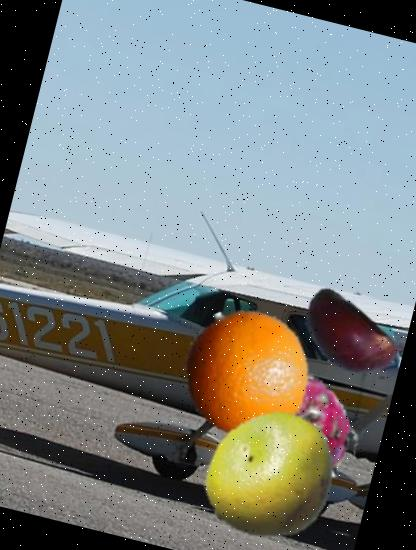Chestnut: (283, 274, 411, 402)
Orange: (166, 293, 326, 453)
Pitahaya: (242, 361, 374, 493)
Pomelo: (189, 395, 353, 550)
